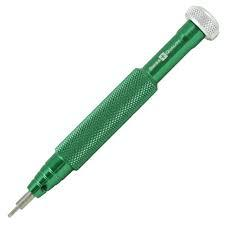screwdriver: (6, 5, 219, 217)
